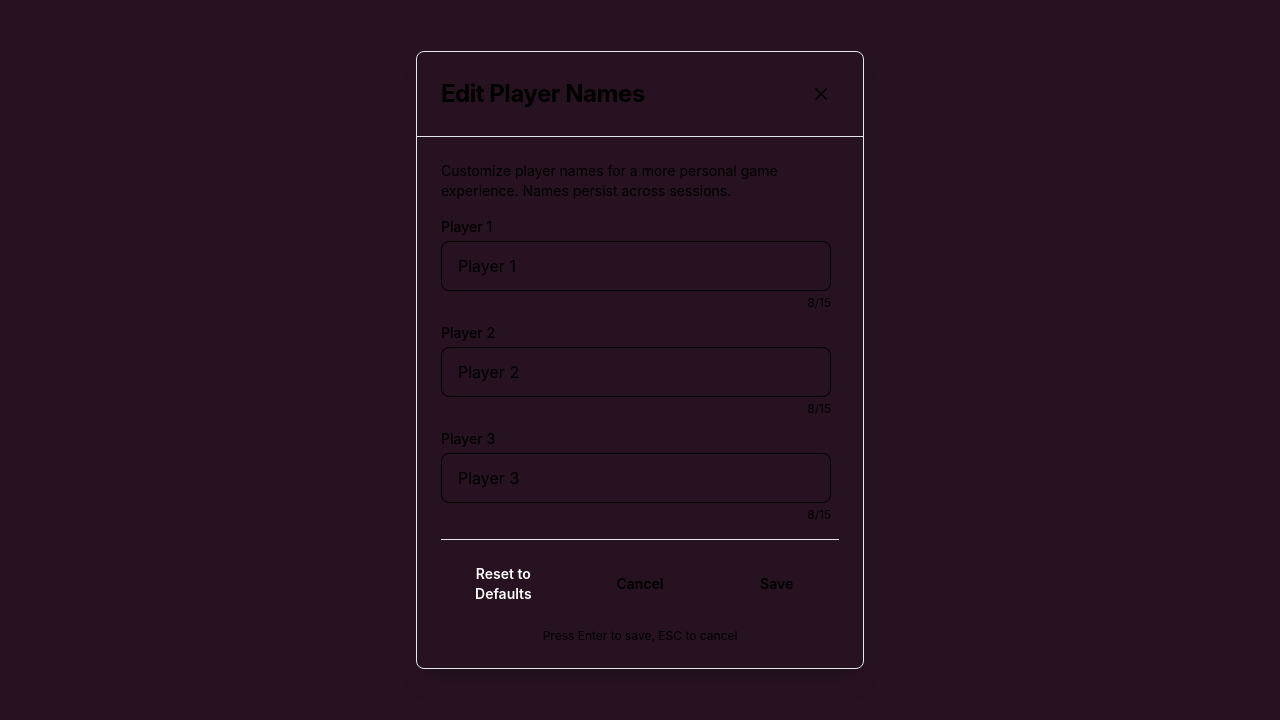
PlayerNameEditor › validation › should show error for duplicate names
This screenshot has width=1280, height=720.
Replace the text in the field named "Name for Player 1" with "Alice" at (636, 266), box [441,241,831,291]
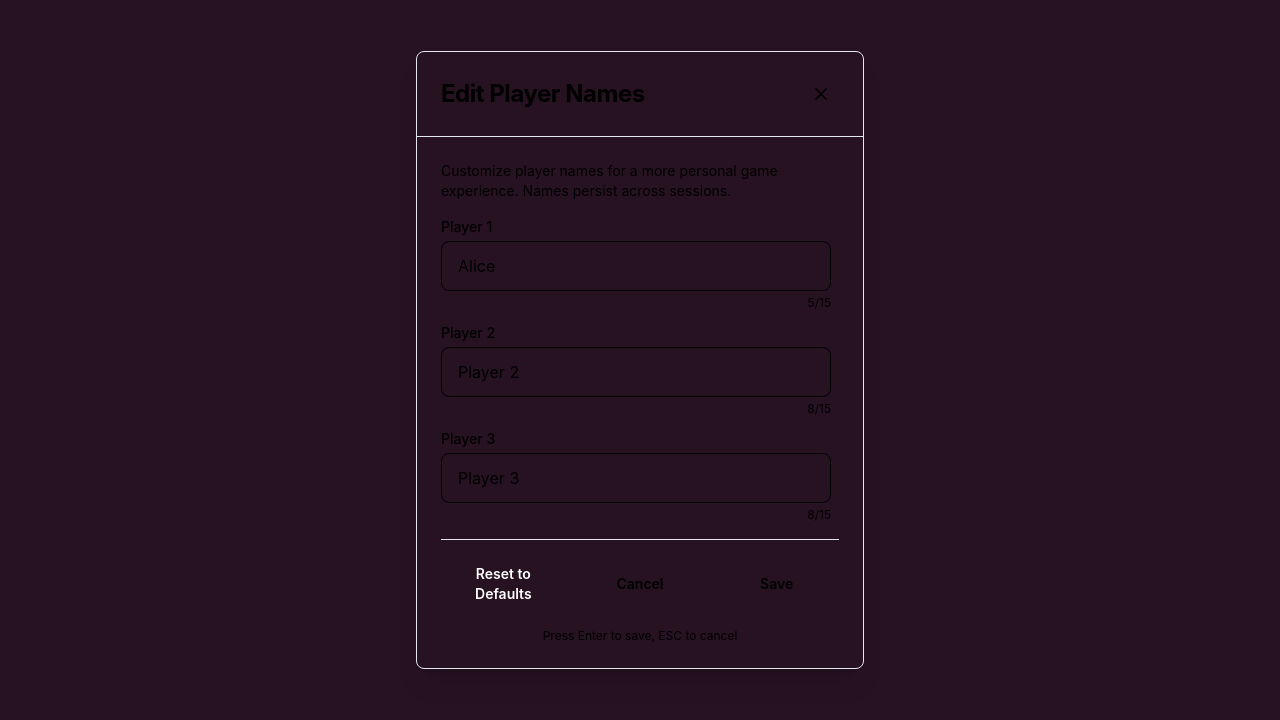
Replace the text in the field named "Name for Player 2" with "Alice" at (636, 372), box [441,347,831,397]
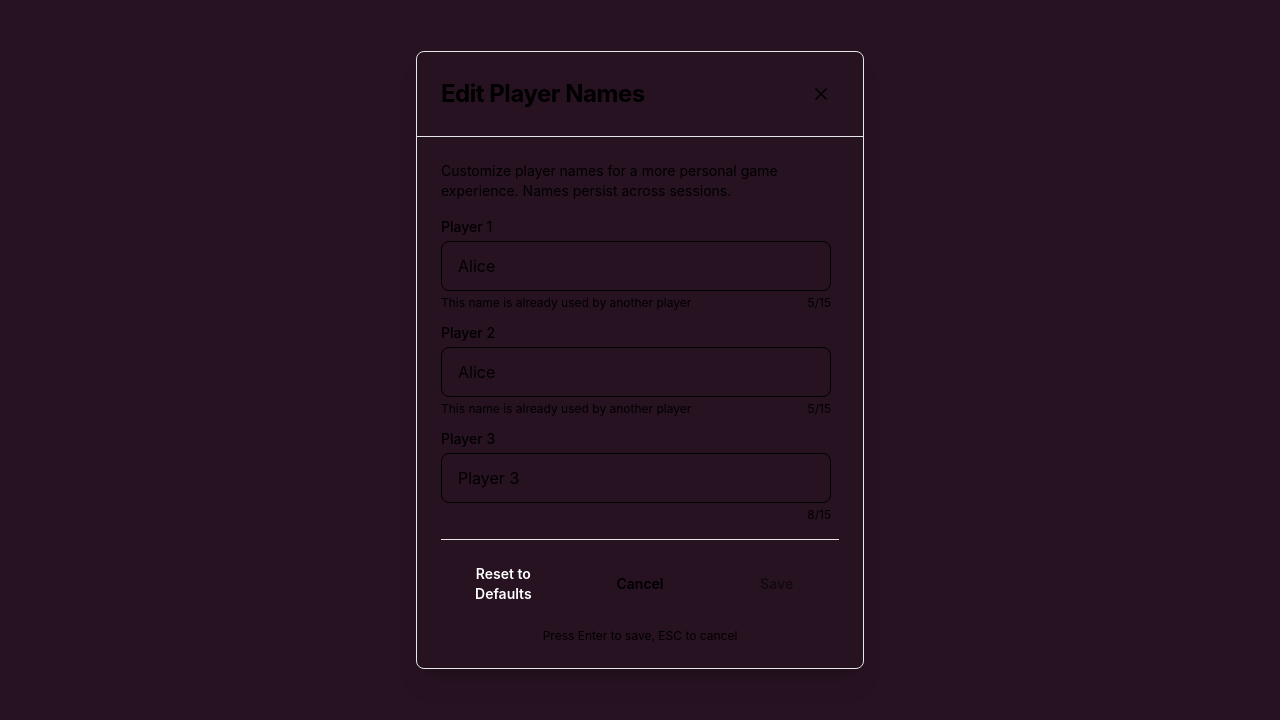
Expected: the 1st text "This name is already used by another player" is shown, [441,295,691,311]
